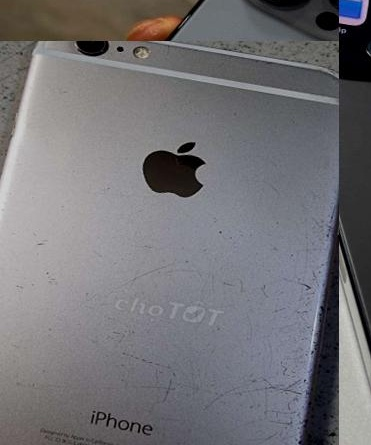scratch: (175, 135, 339, 445), (88, 293, 226, 433), (0, 267, 31, 445)
